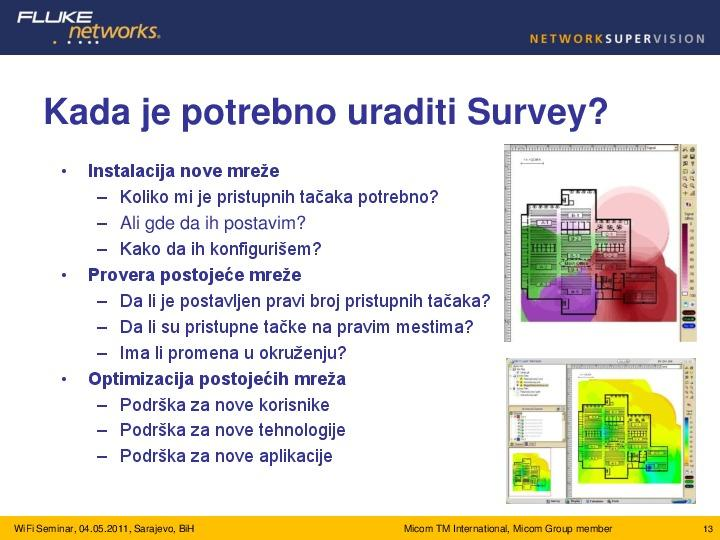paragraph: (38, 145, 500, 499)
subtitle: (31, 84, 623, 139)
title: (9, 3, 714, 51)
